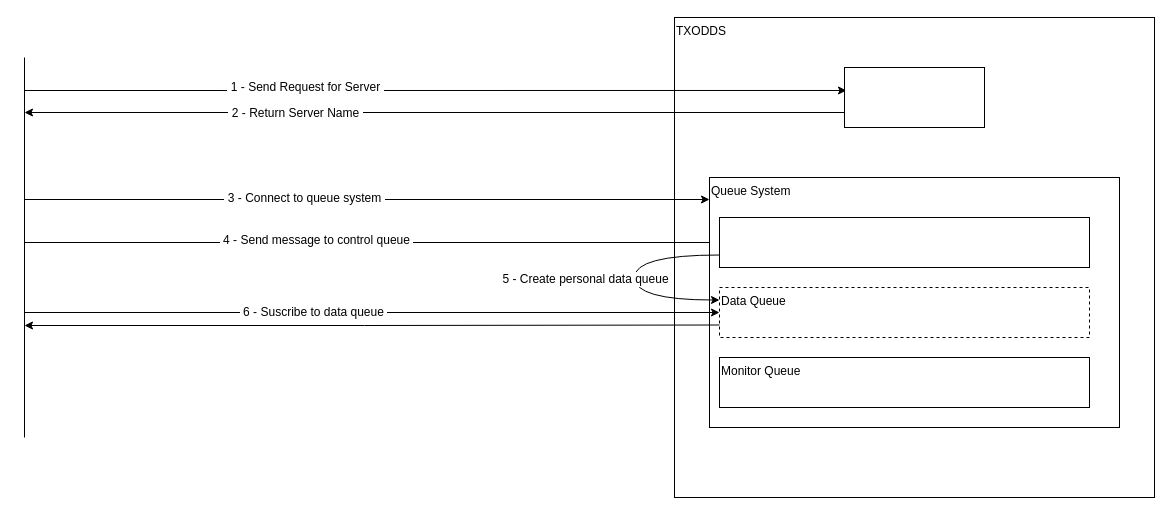
Some shapes in this 1172 by 515 pixel diagram are drawn without their labels. Each missing label, with the centre of its shape:
API Server selector: the point at 914,97
Control Queue: the point at 904,242
